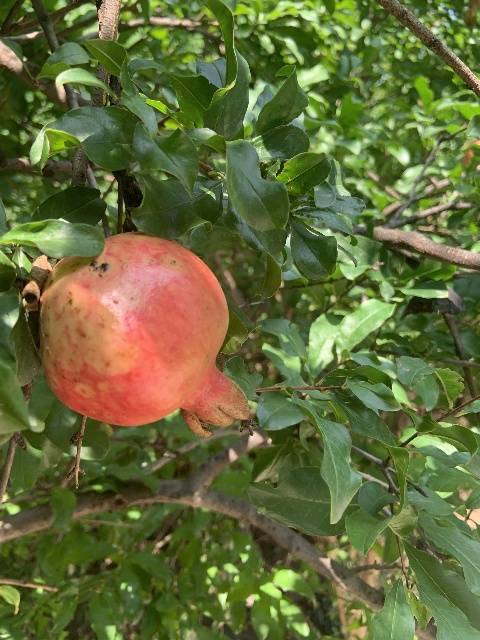ripe: (39, 232, 250, 437)
